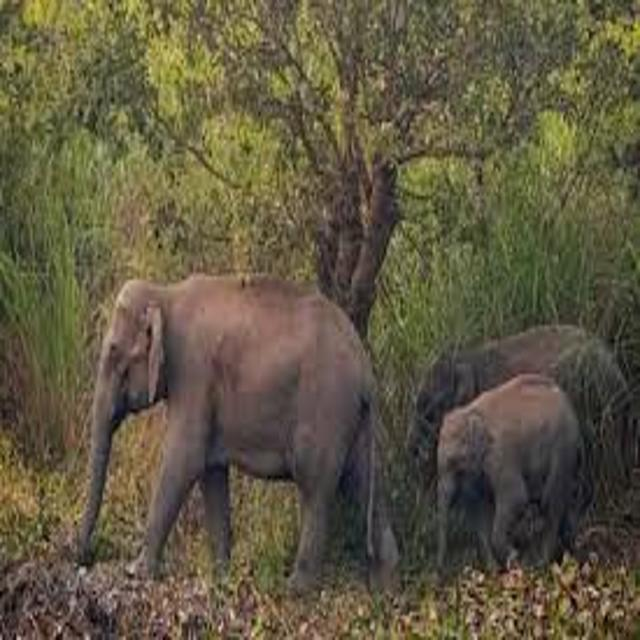elephant: (34, 250, 419, 618), (405, 347, 613, 608)
